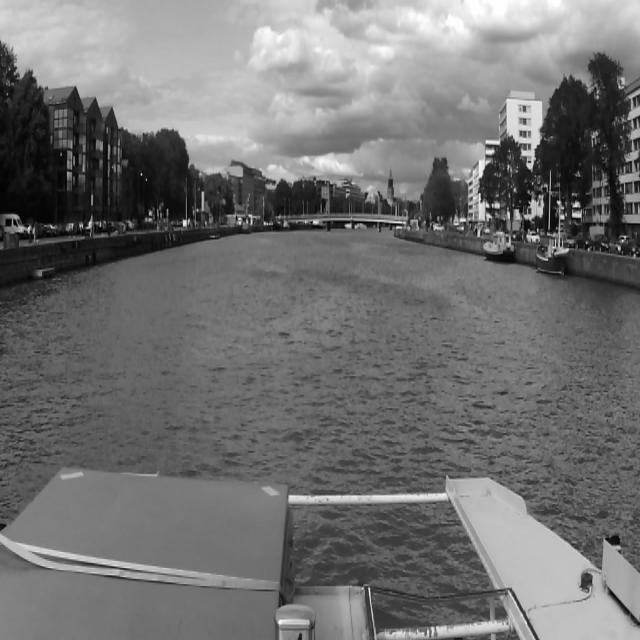ship: (535, 206, 569, 278), (483, 230, 515, 264)
